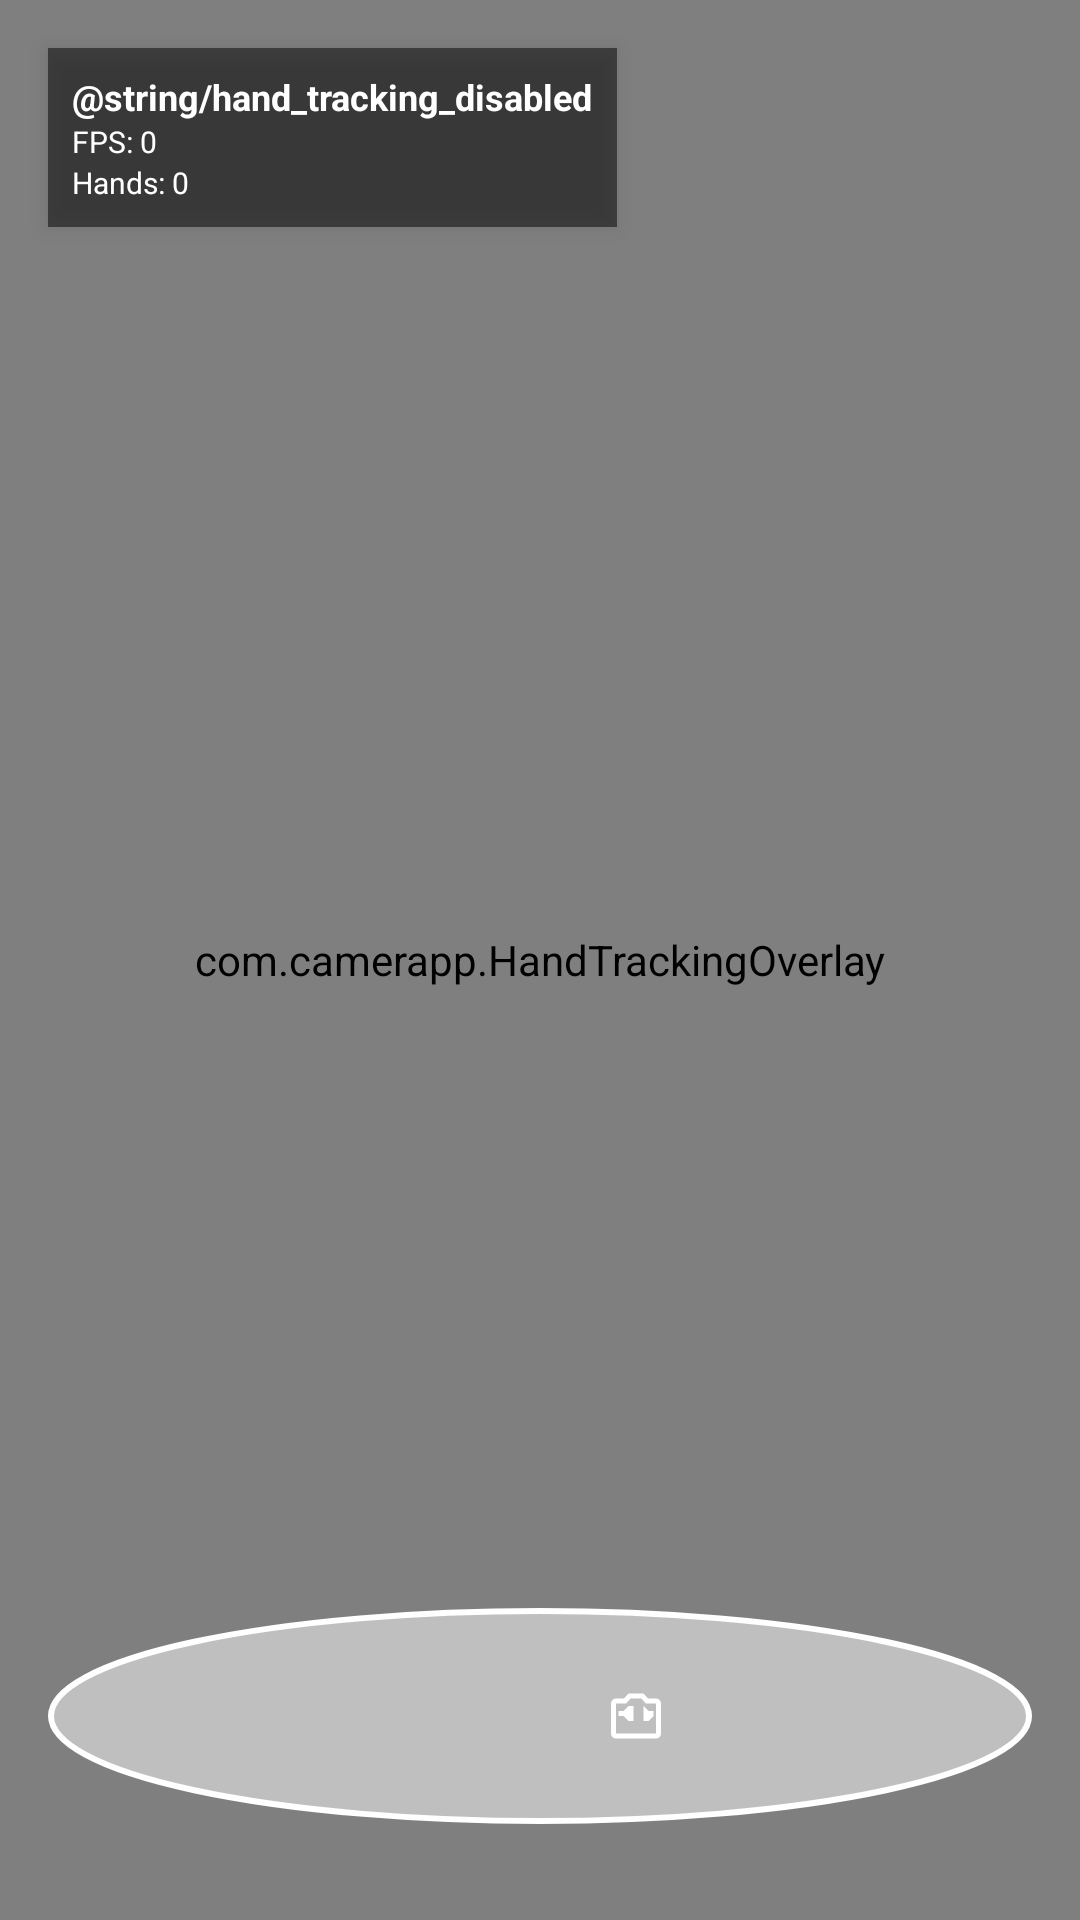

Named icons in this screenshot (1080×1920) and their centers, point (x, y):
flip camera: point (636, 1716)
